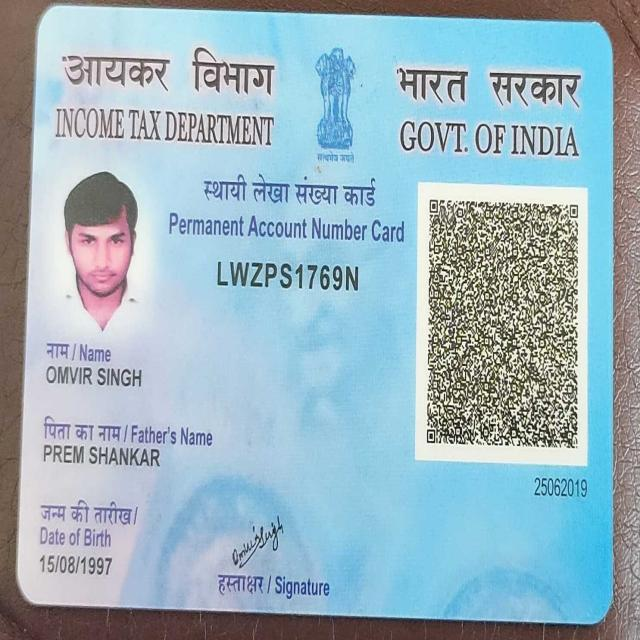pan_card: (23, 12, 607, 619)
